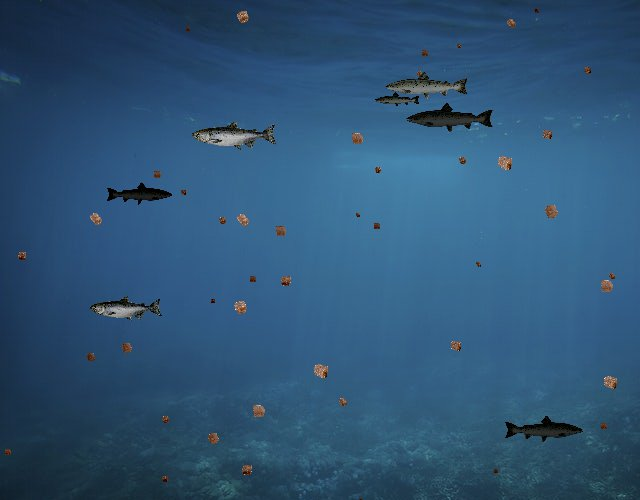Fish: (405, 102, 495, 134), (384, 70, 470, 101), (192, 120, 278, 151), (503, 414, 584, 444), (90, 295, 163, 321), (106, 181, 174, 206), (374, 92, 421, 109)
Pellet: (245, 398, 272, 425), (345, 126, 370, 151), (235, 459, 258, 481), (501, 13, 521, 33), (369, 219, 384, 233), (177, 187, 190, 200), (454, 40, 464, 50)
